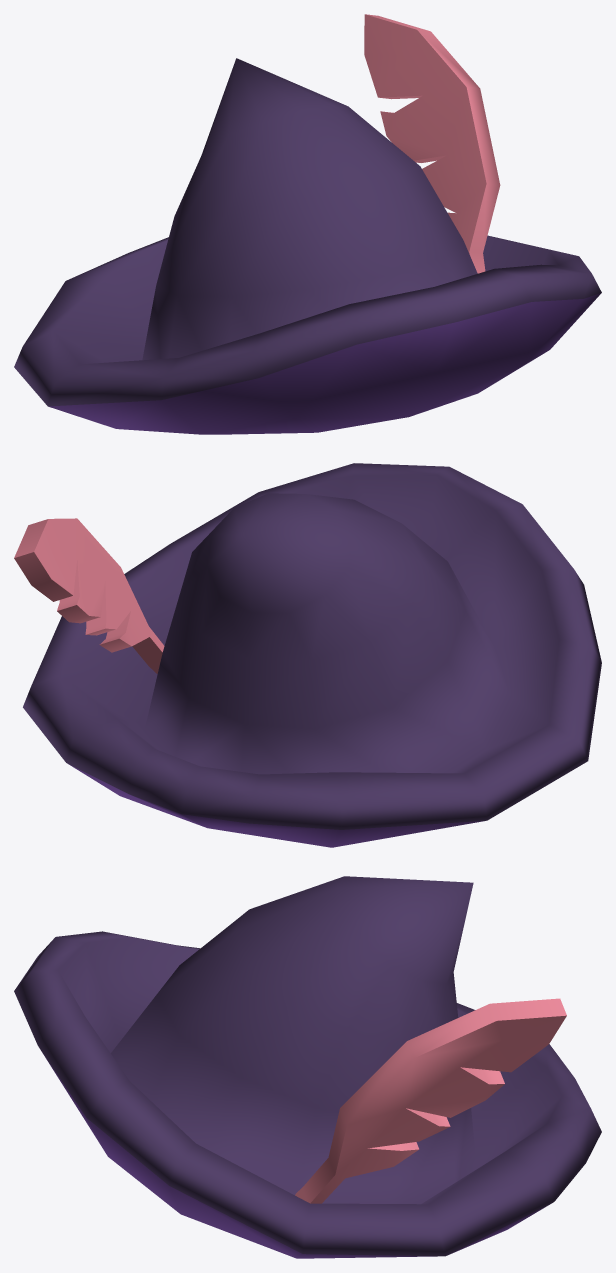
Rendered from Headgear_23.fbx.
3 views of the same model, one above another, from view 1: azimuth 30°, elevation 25°; view 2: azimuth 150°, elevation 25°; view 3: azimuth 270°, elevation 25° (orthographic). The views are drawn at different scales.
Parts seen in each view (by area): view 1: Headgear_23; view 2: Headgear_23; view 3: Headgear_23.
Part boxes in pixels (x1,y1,x2,y2): Headgear_23: [14, 14, 601, 434]; Headgear_23: [14, 463, 601, 847]; Headgear_23: [14, 876, 601, 1258].
Bounding box in the file's own units: 109 × 57.27 × 98.18.
